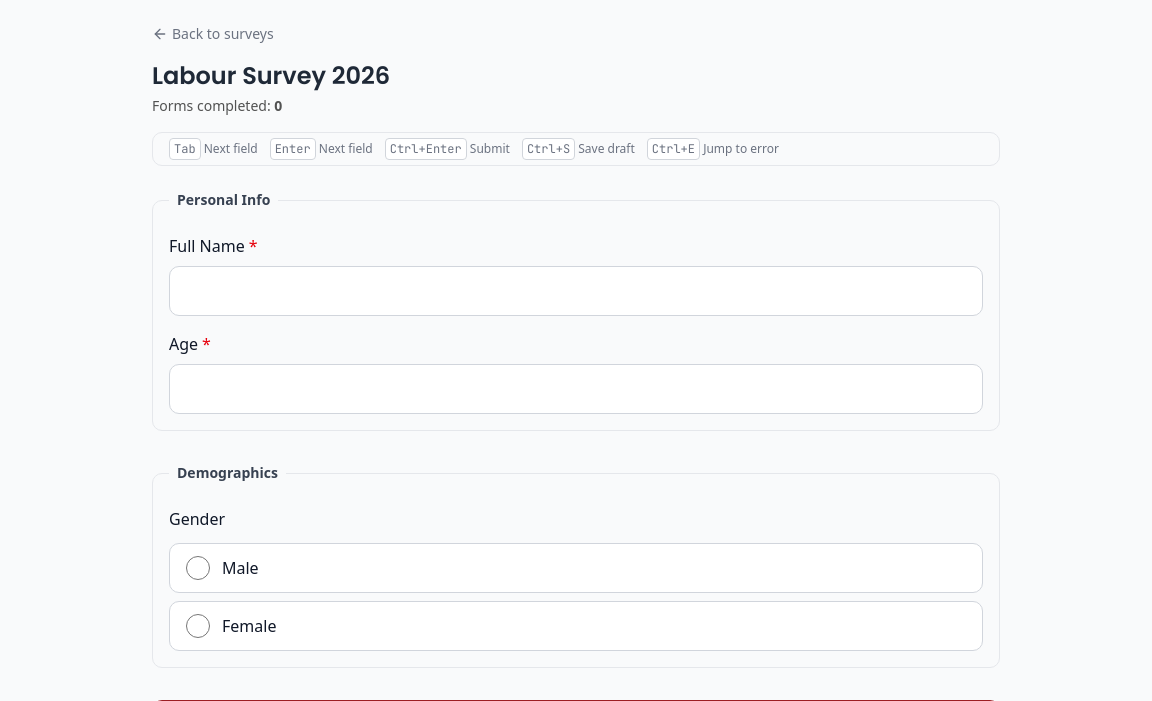
Scenario: ClerkDataEntryPage › AC3.6.5: Submit and Navigate Back › shows the reference code in a blocking modal after submission (Story 9-58)
In the field with test id "input-full_name": (576,291) [169,266,983,316], type "John Doe"
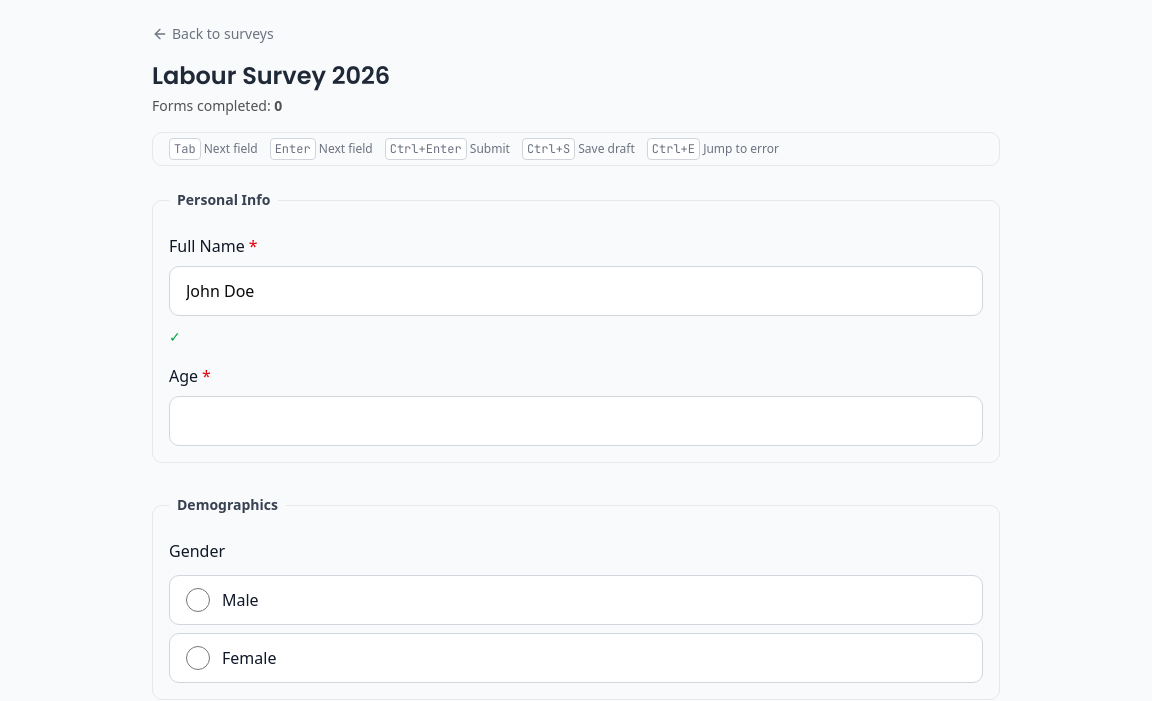
In the number field with test id "input-age": (576,421) [169,396,983,446], type "30"
(page scrolled)
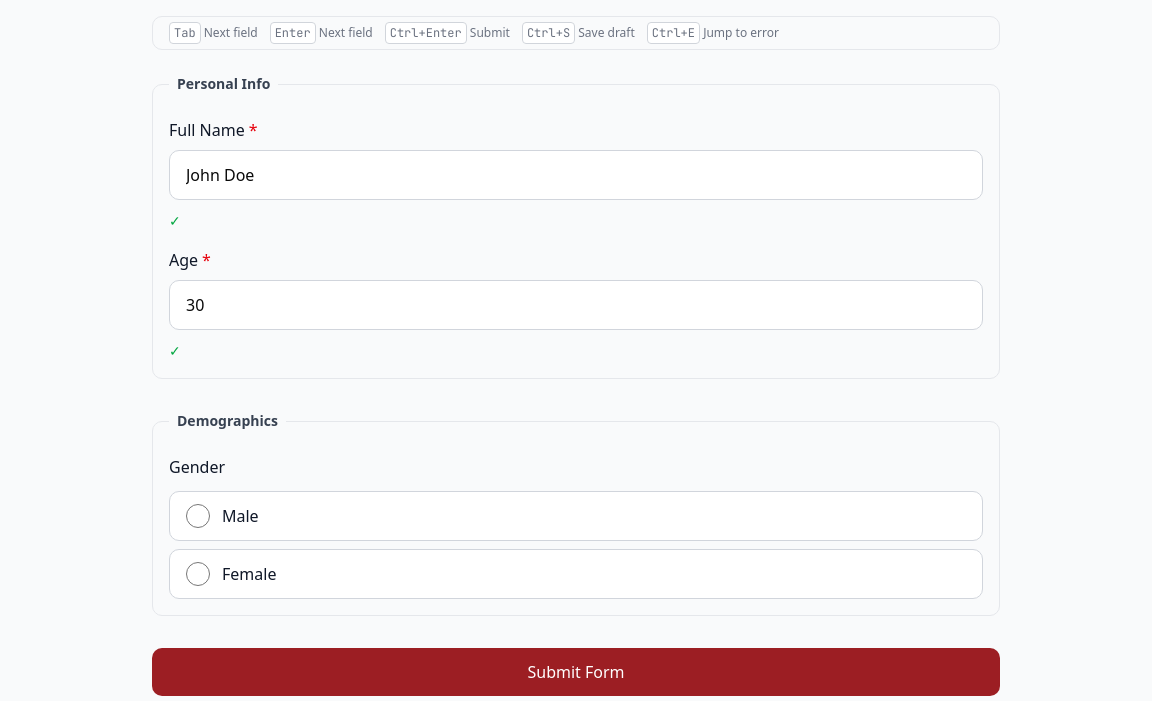
Press Enter in the form
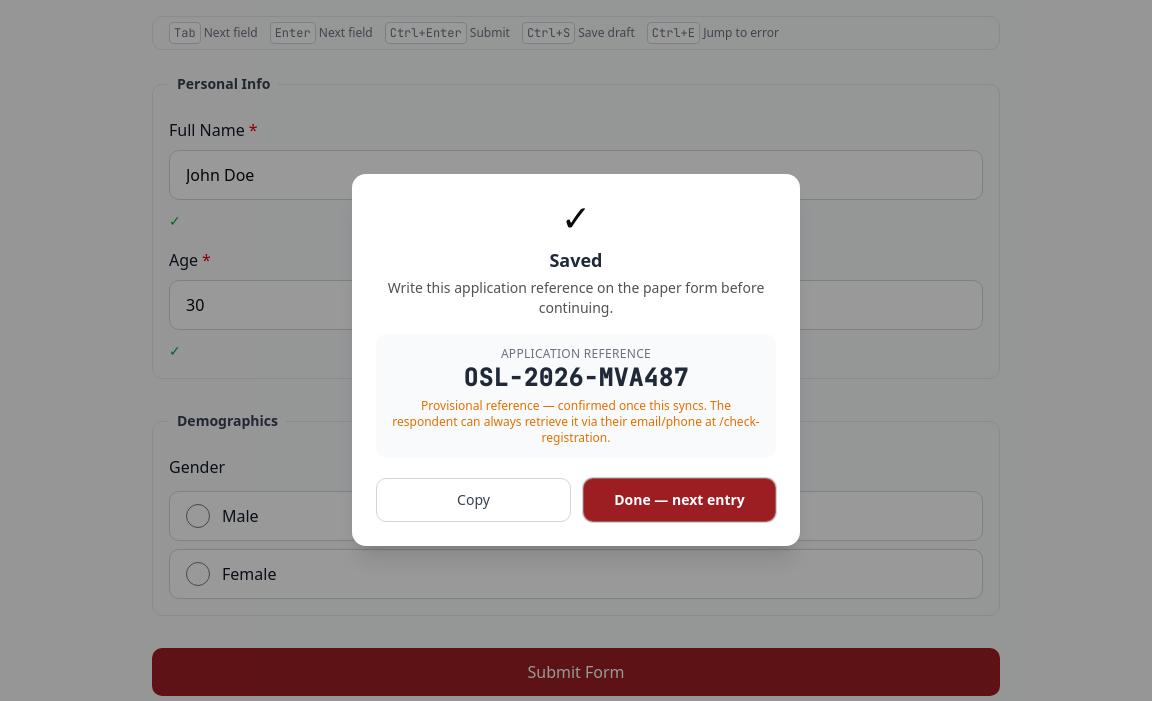
expect the text with test id "clerk-reference-code" reads "OSL-2026-MVA487": met, box [464,362,688,393]
